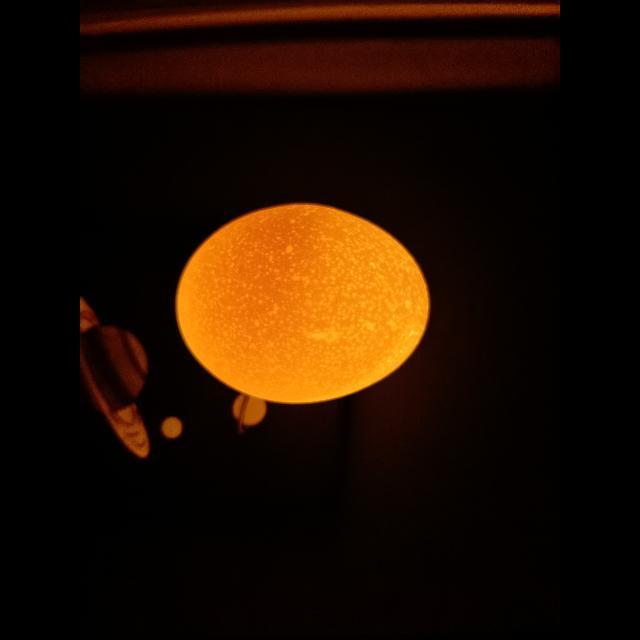AA - Premium: (176, 204, 429, 404)
